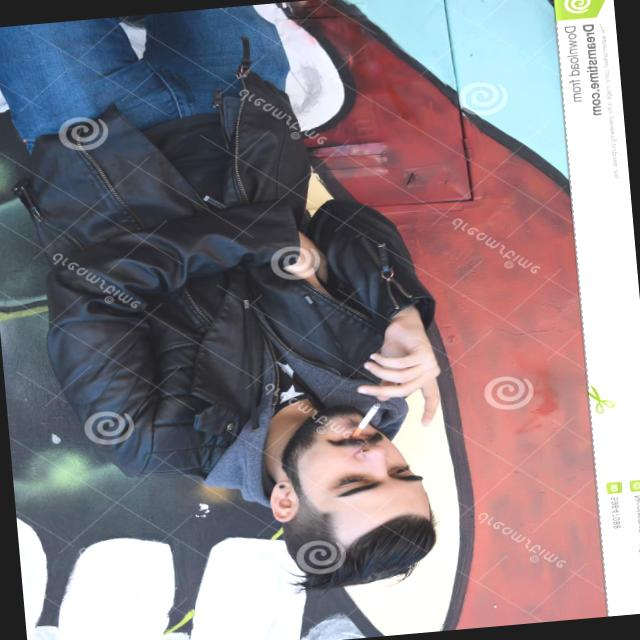cigarette: (338, 387, 392, 442)
